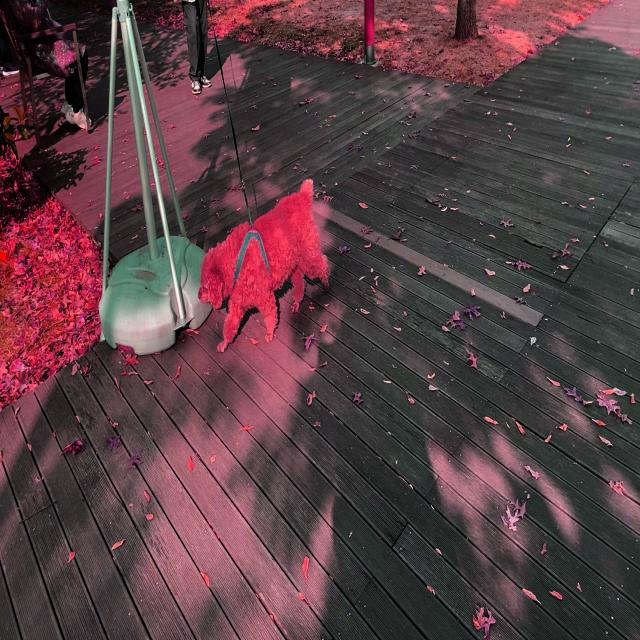Leashed_Dog: (198, 0, 329, 354)
